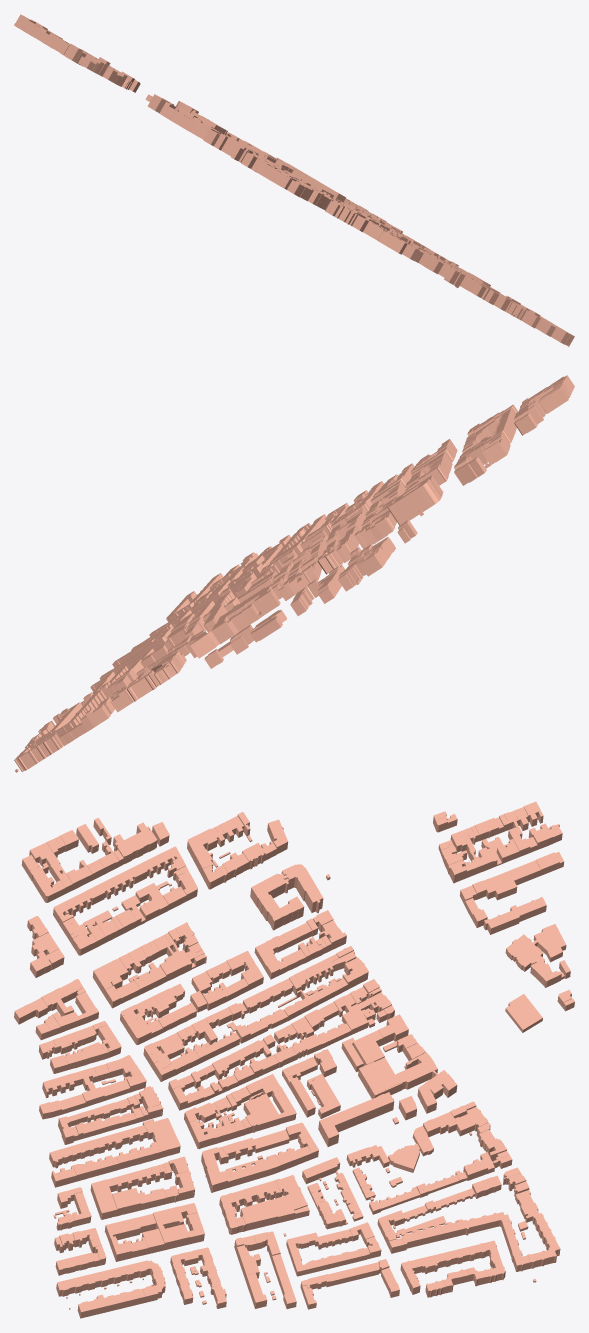
The picture shows the model from 3 angles, top to bottom: view 1: azimuth 30°, elevation 25°; view 2: azimuth 150°, elevation 25°; view 3: azimuth 270°, elevation 25°; orthographic projection. The views are drawn at different scales.
Bounding box in the file's own units: 545 × 393 × 626.
